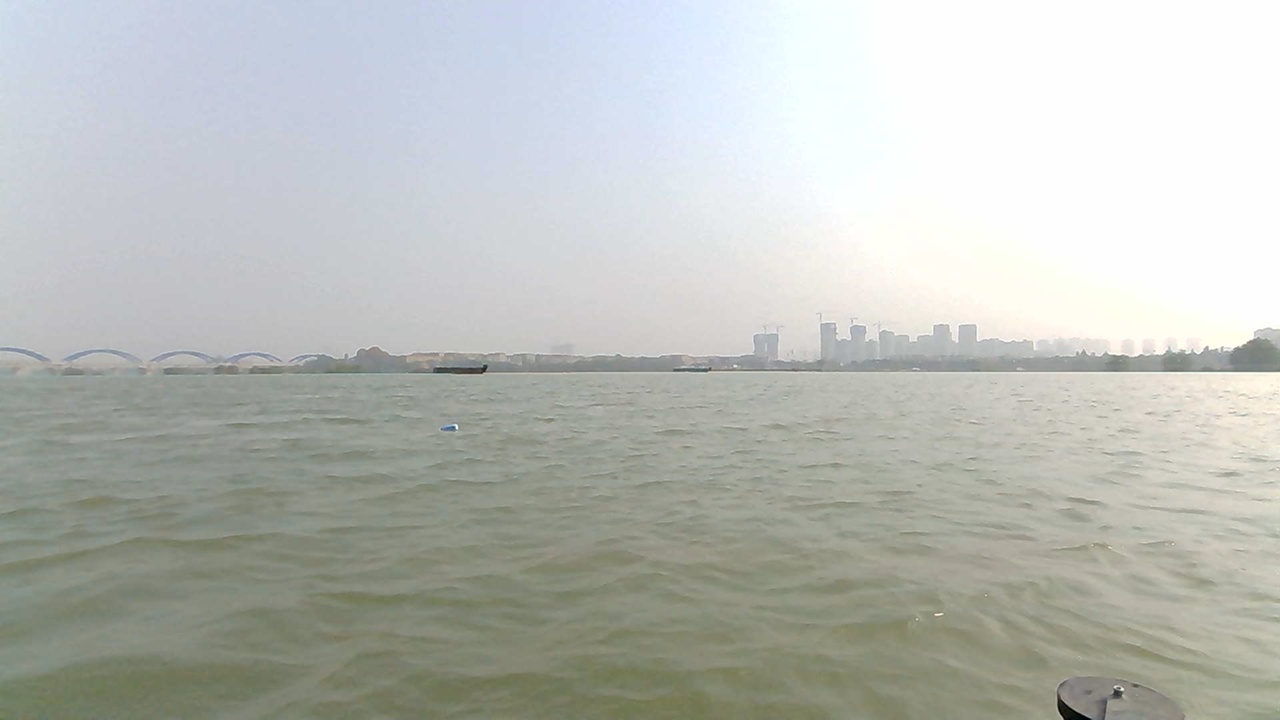bottle: (436, 423, 465, 437)
